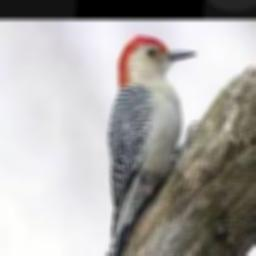Woodpecker: (91, 36, 196, 256)
